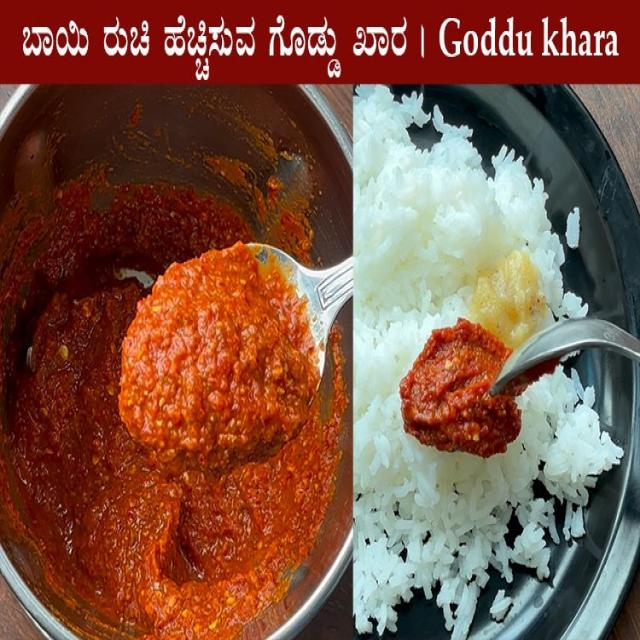kaara chutney: (0, 180, 307, 596)
rice: (354, 88, 621, 639)
